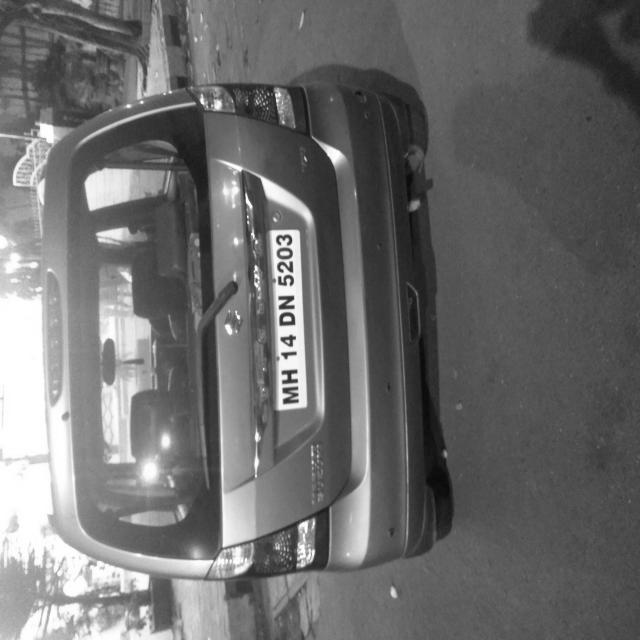car: (42, 47, 424, 603)
license-plate: (172, 359, 306, 410)
